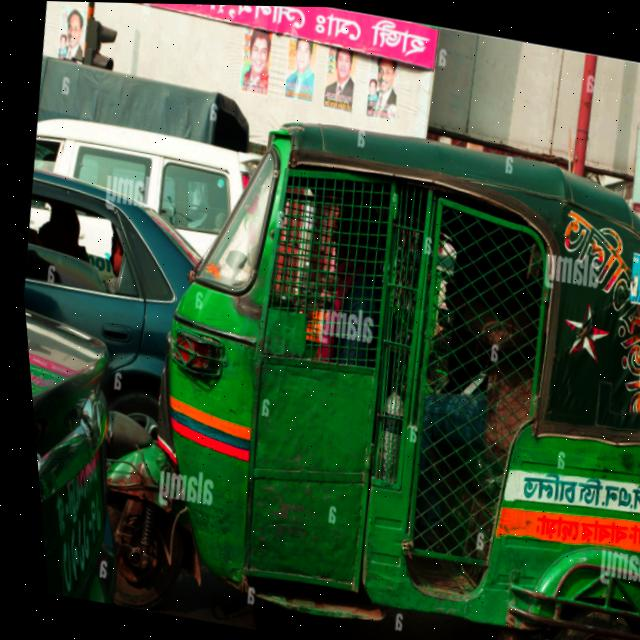cng: (55, 43, 640, 640)
